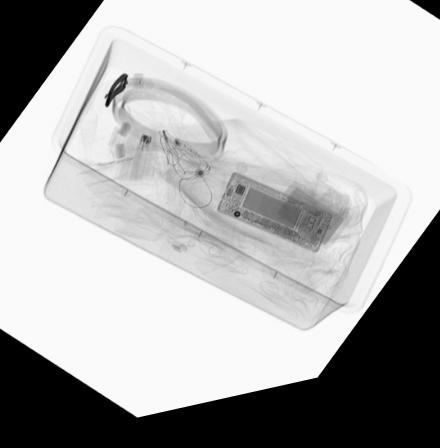Lighter: (127, 141, 152, 191)
